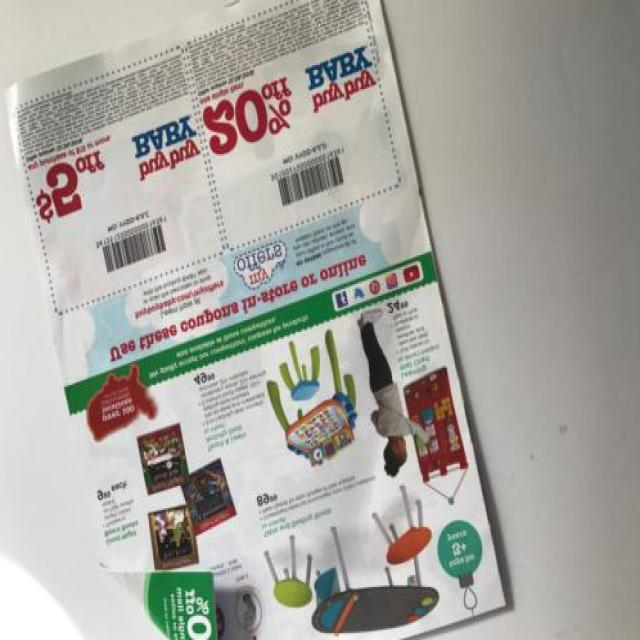kertas: (0, 0, 510, 640)
